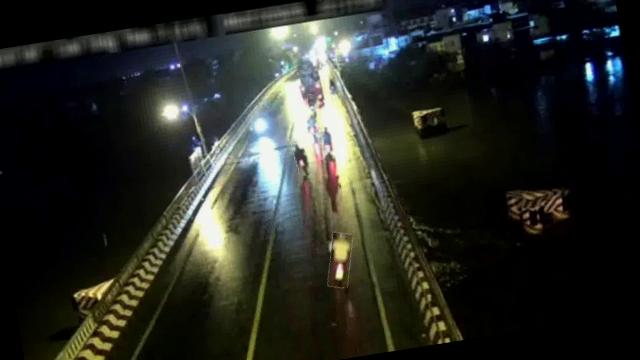Bike: (323, 229, 358, 290), (292, 140, 312, 177), (319, 123, 335, 160), (304, 110, 320, 135), (324, 77, 336, 97), (306, 94, 316, 109)
